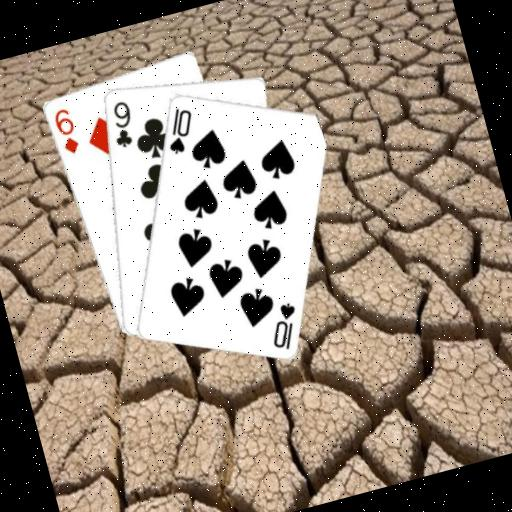10S: (260, 296, 307, 354), (156, 100, 202, 156)
6D: (48, 103, 82, 157)
9C: (101, 96, 140, 152)
